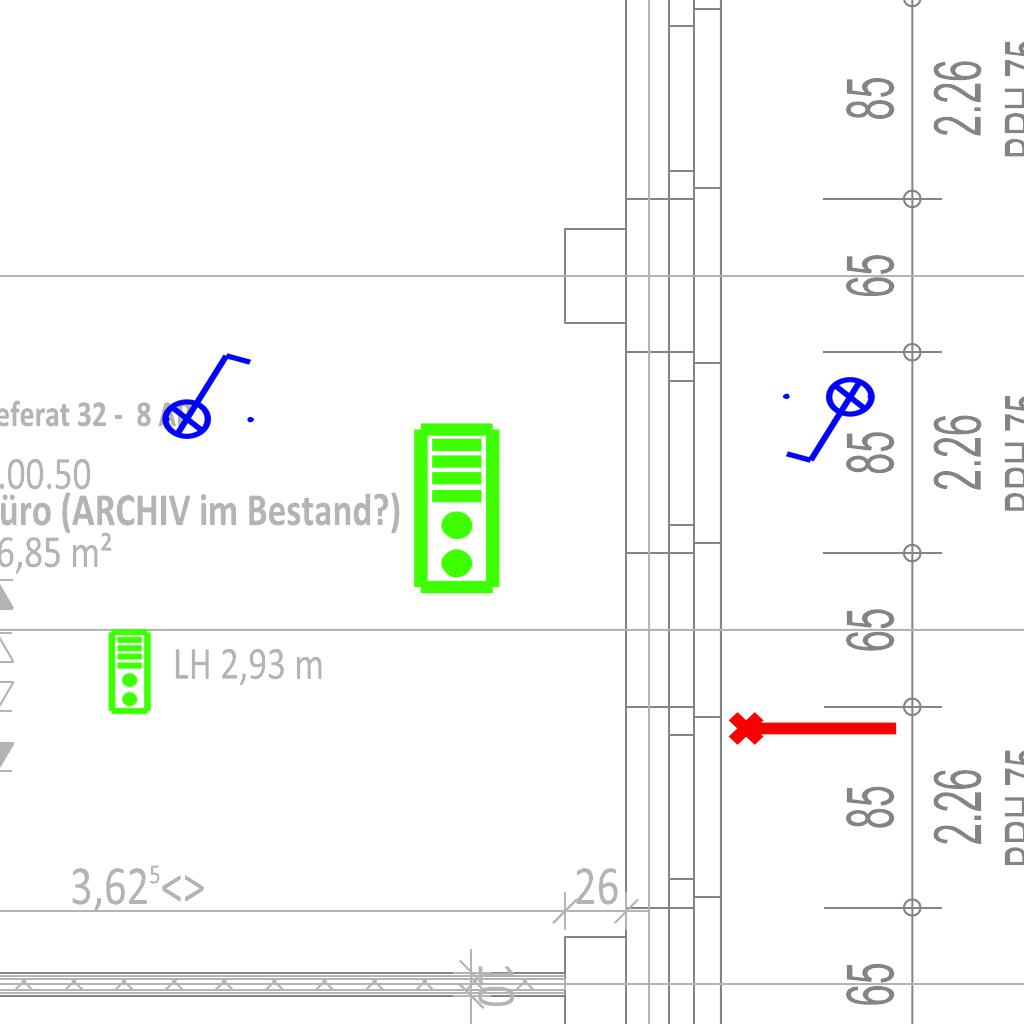ASR_Ansaugoeffnung: (726, 703, 902, 749)
Ausschalter_beleuchtet: (148, 345, 260, 441), (777, 375, 889, 471)
Gegensprechanlage_mit_Video: (411, 421, 506, 597), (107, 628, 154, 716)
